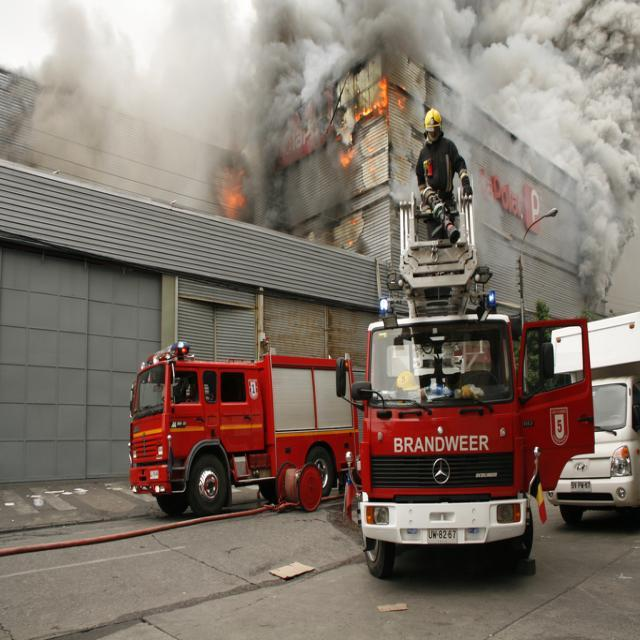Fire: (351, 74, 416, 124), (214, 166, 248, 216)
Smoke: (62, 62, 212, 160), (506, 26, 636, 138), (248, 12, 300, 110)
